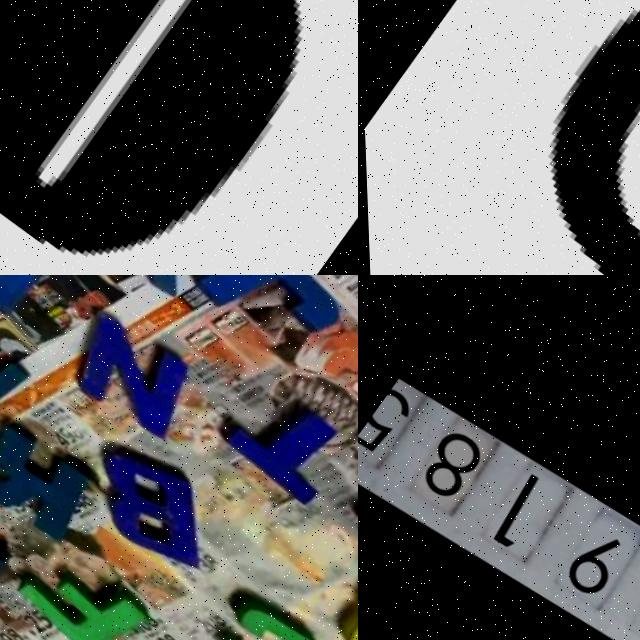1: (473, 464, 576, 571)
5: (358, 382, 430, 472)
6: (365, 0, 640, 275)
8: (401, 418, 500, 518)
9: (0, 0, 358, 275), (545, 516, 640, 617)
B: (69, 430, 234, 580)
C: (202, 590, 348, 640)
F: (1, 535, 150, 640)
J: (185, 275, 349, 367)
K: (0, 414, 100, 544)
N: (51, 304, 205, 444)
T: (211, 378, 350, 507)
